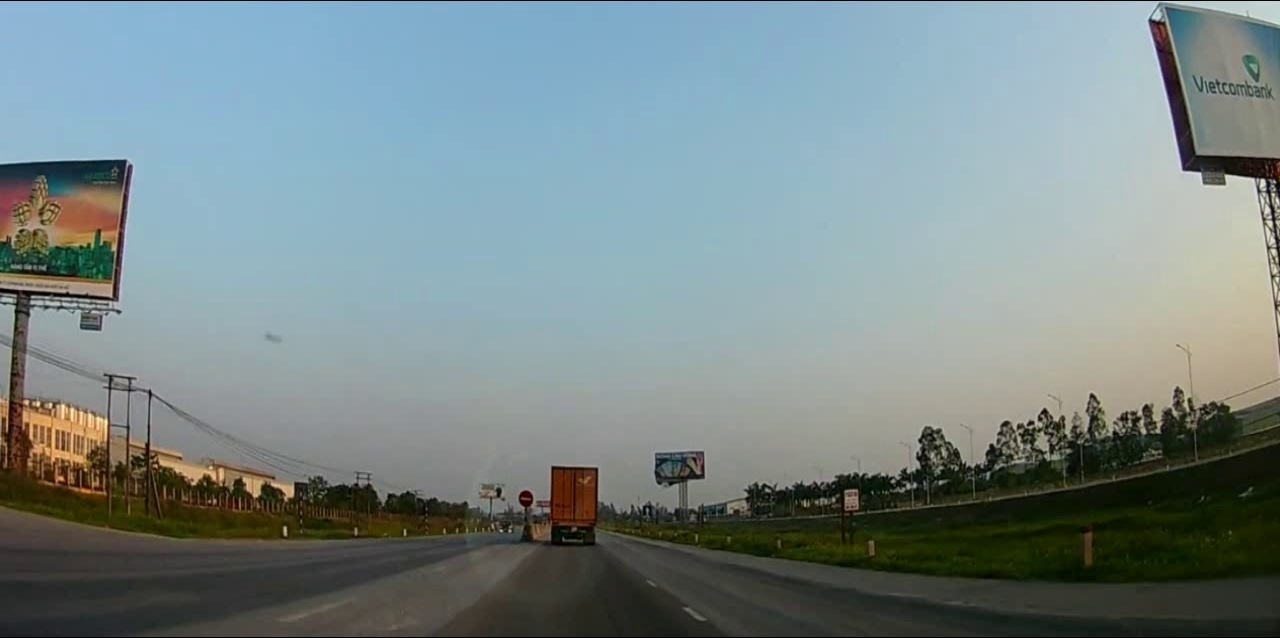Cam di nguoc chieu: (518, 488, 534, 508)
